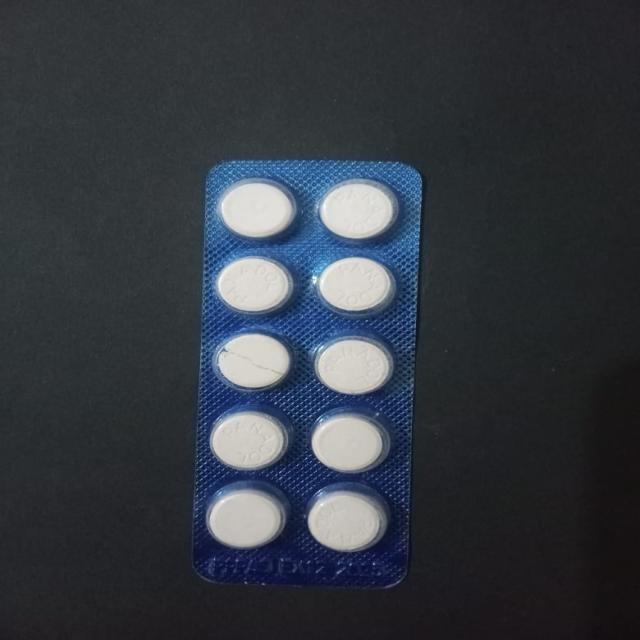defect: (210, 331, 297, 393)
